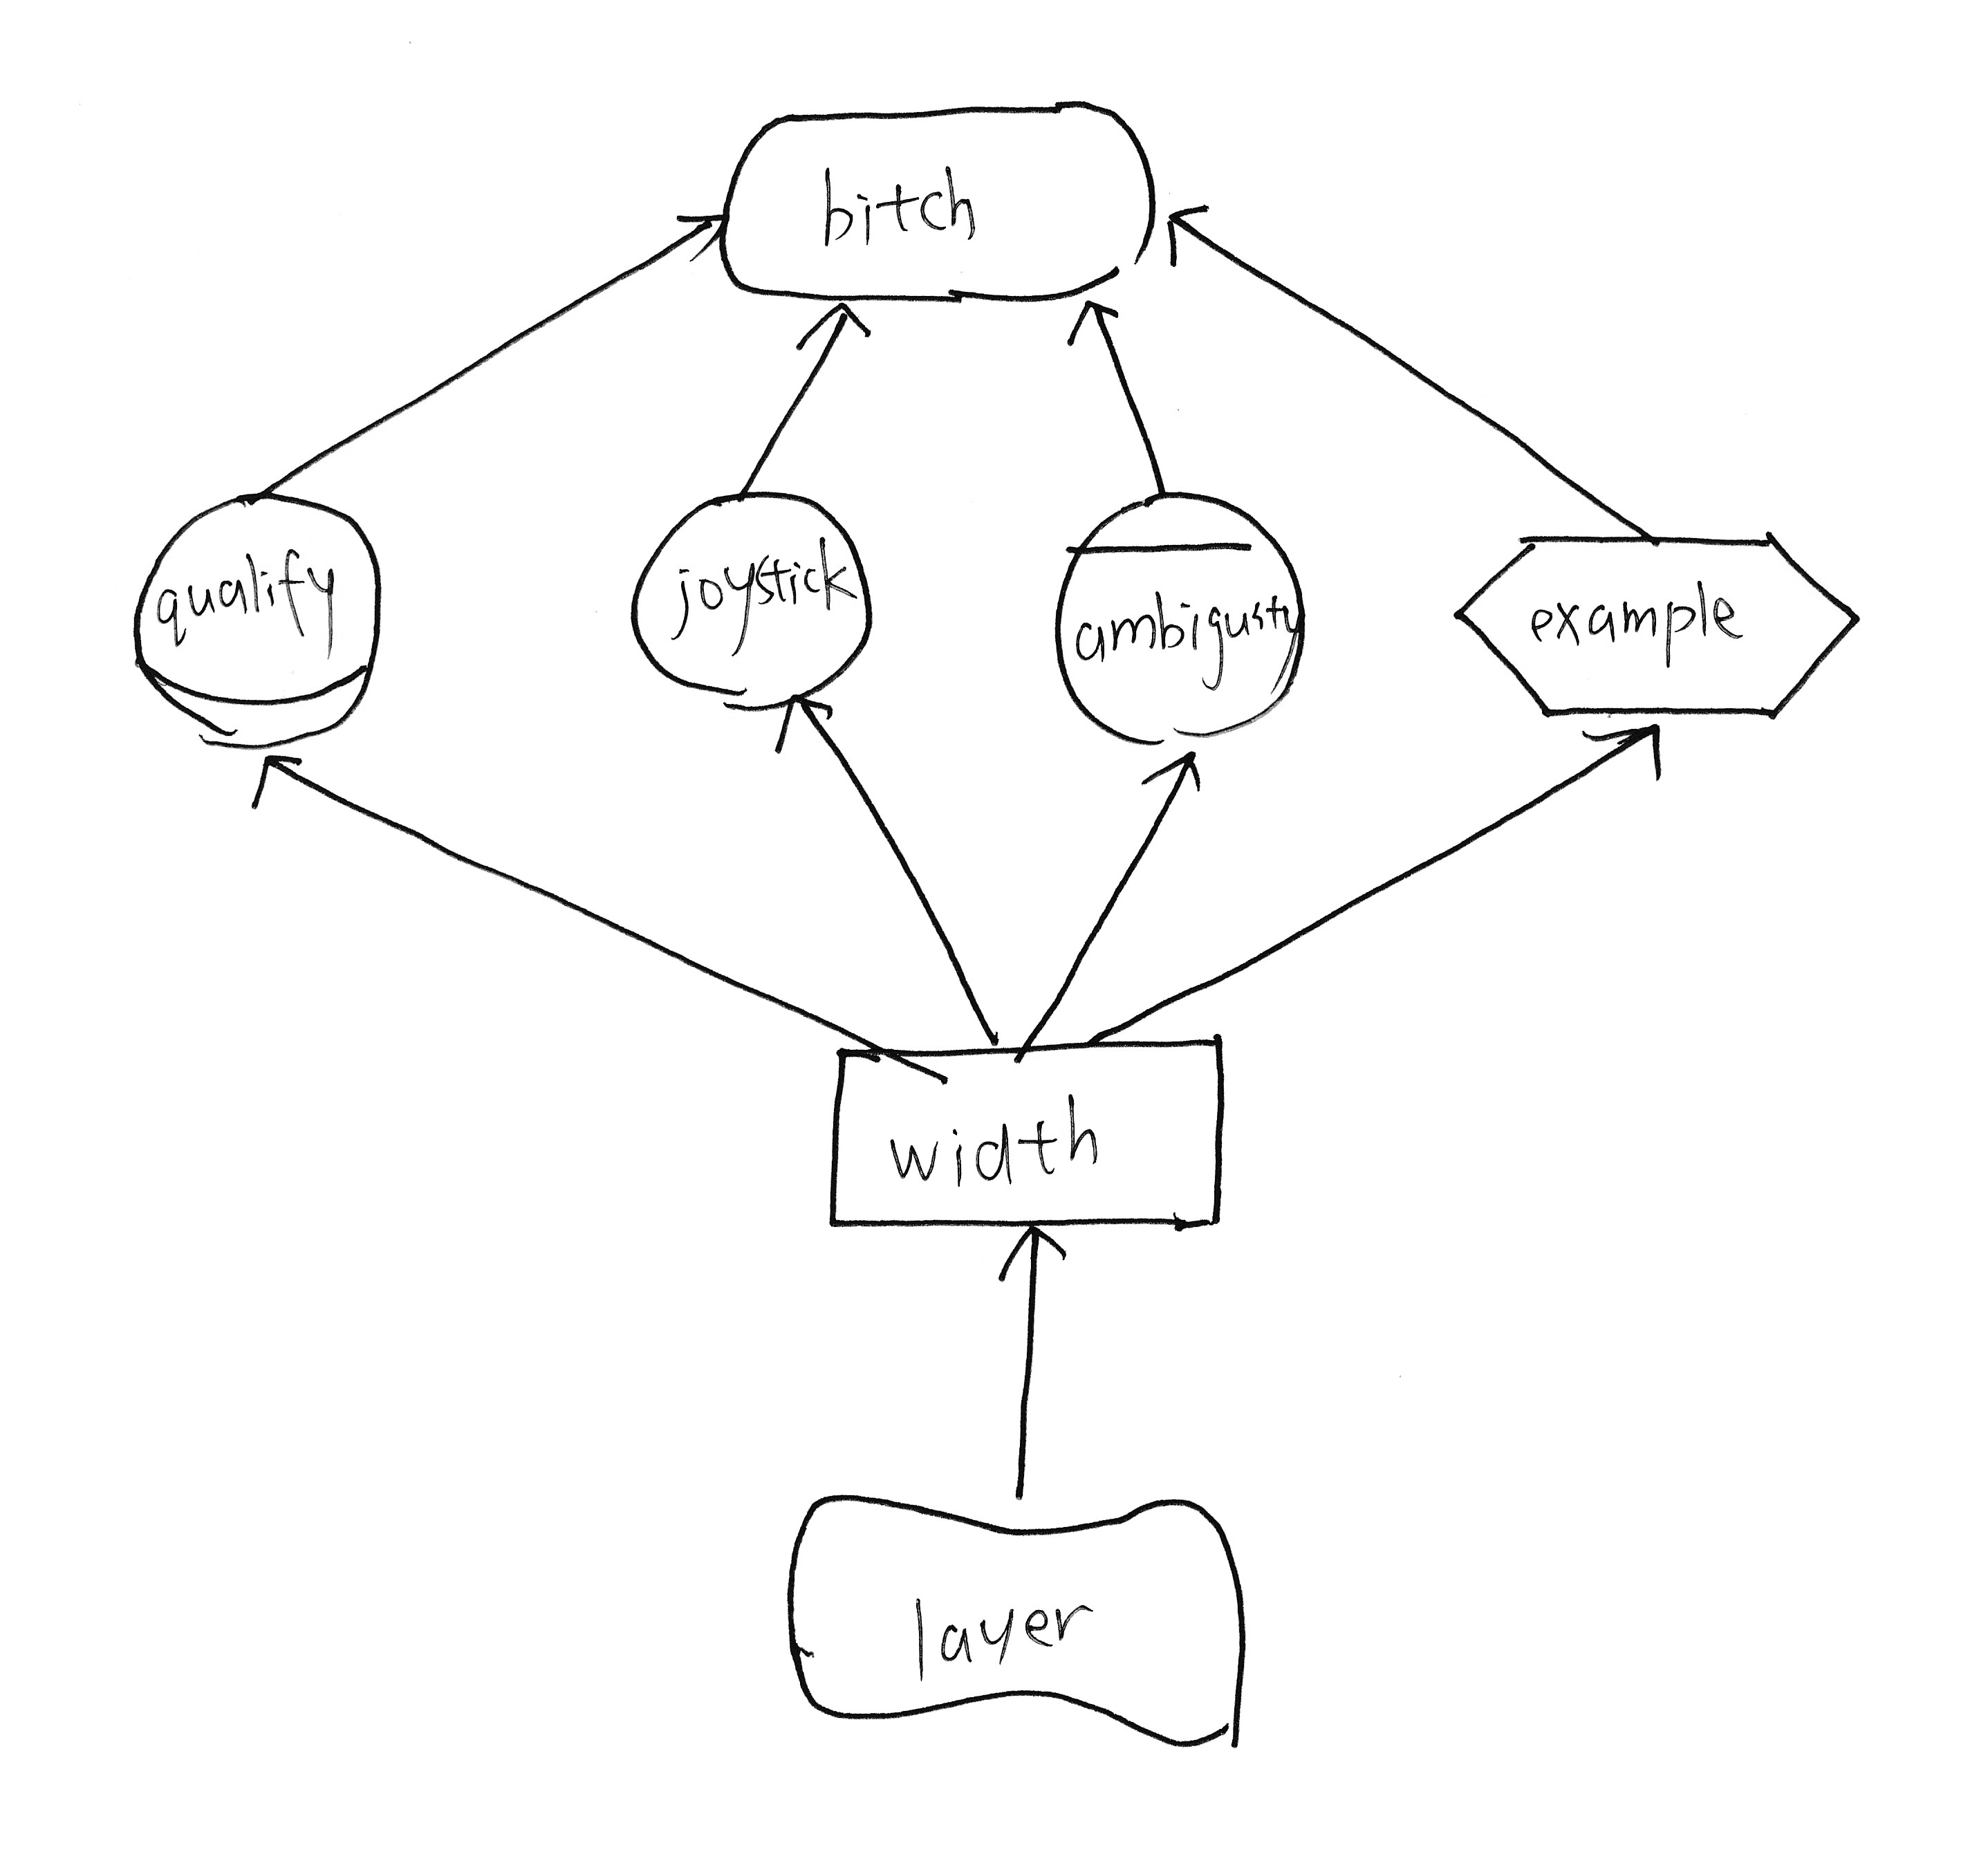actor: (617, 475, 900, 730)
agent: (1034, 470, 1326, 765)
arrow: (1562, 701, 1686, 784), (975, 1206, 1083, 1296), (222, 734, 325, 819), (748, 683, 856, 760), (790, 285, 882, 369), (653, 183, 741, 269), (1048, 285, 1136, 363), (1151, 190, 1228, 273), (1130, 737, 1225, 804)
goal: (699, 80, 1176, 327)
quality: (767, 1475, 1277, 1775)
resource: (805, 1020, 1253, 1247)
role: (114, 470, 398, 767)
task: (1434, 517, 1869, 757)
